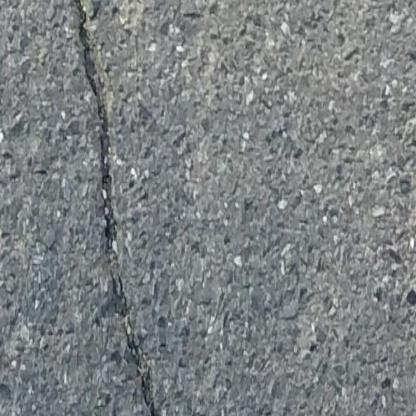Cracks: (64, 0, 171, 416)
